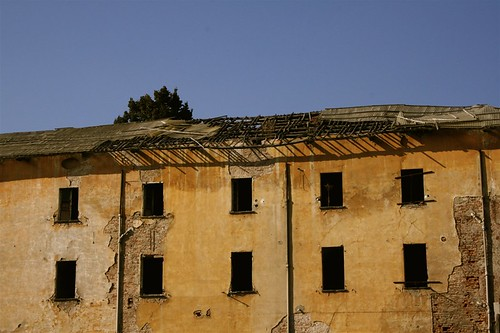building: (5, 106, 500, 333)
sky: (1, 1, 495, 102)
tree: (117, 82, 194, 116)
window: (55, 181, 81, 221), (51, 258, 77, 298), (141, 180, 167, 220), (138, 252, 164, 292), (228, 173, 254, 213), (226, 249, 252, 289), (319, 170, 345, 210), (319, 246, 345, 286), (399, 167, 425, 207), (403, 246, 429, 286)
